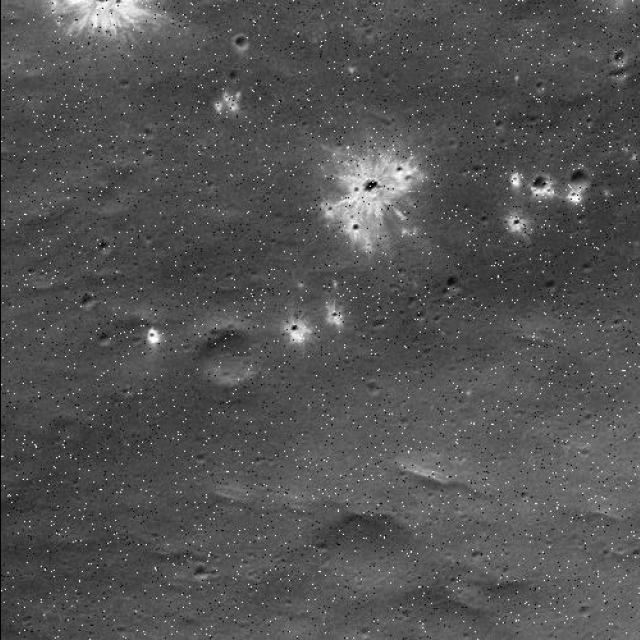crater: (190, 322, 266, 394), (526, 0, 590, 38), (532, 0, 590, 32), (222, 23, 262, 64), (72, 0, 130, 24), (90, 229, 120, 266), (562, 170, 594, 204), (89, 325, 121, 355), (74, 280, 102, 314), (566, 596, 600, 624), (0, 589, 19, 639), (353, 171, 383, 201), (522, 172, 552, 202), (224, 58, 254, 88), (188, 558, 218, 588), (538, 277, 568, 307), (361, 376, 385, 410), (608, 43, 631, 77), (138, 122, 165, 148), (142, 324, 164, 354), (0, 581, 13, 626), (442, 271, 467, 293), (284, 322, 311, 342), (324, 302, 344, 328), (144, 0, 176, 15), (78, 0, 114, 13), (0, 296, 14, 328), (0, 572, 14, 604), (119, 0, 146, 16), (21, 87, 39, 109), (208, 0, 235, 14), (204, 0, 230, 14), (0, 47, 12, 77), (26, 0, 49, 15), (0, 223, 12, 251), (344, 220, 362, 238), (0, 47, 12, 73), (605, 0, 631, 12), (602, 0, 626, 10), (34, 0, 54, 10), (138, 0, 158, 10), (0, 0, 13, 14), (0, 0, 13, 13), (631, 34, 640, 50), (0, 0, 10, 13), (0, 0, 10, 10), (0, 0, 10, 8), (0, 0, 8, 8)
